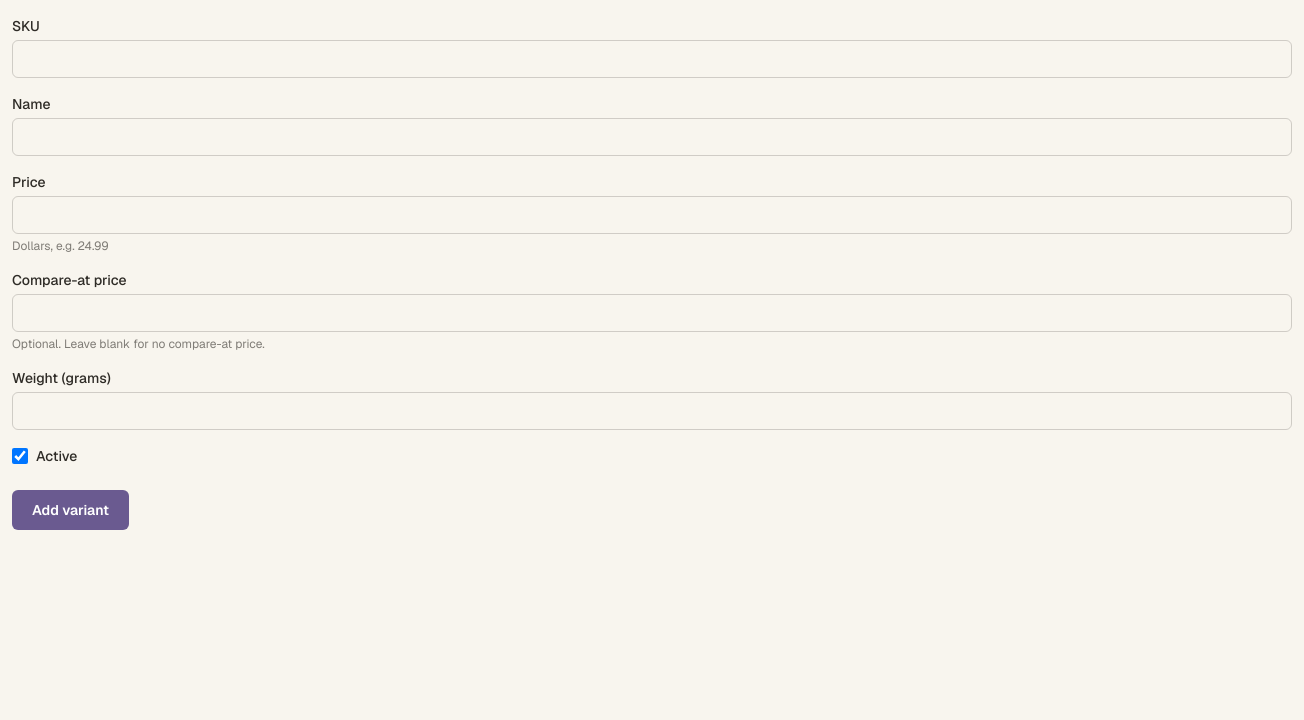
Test: VariantForm › renders a form-level error after a csrf mismatch
Type "FC-CANDLE-001" into the field labelled "SKU" at (652, 59), box [12,40,1292,78]
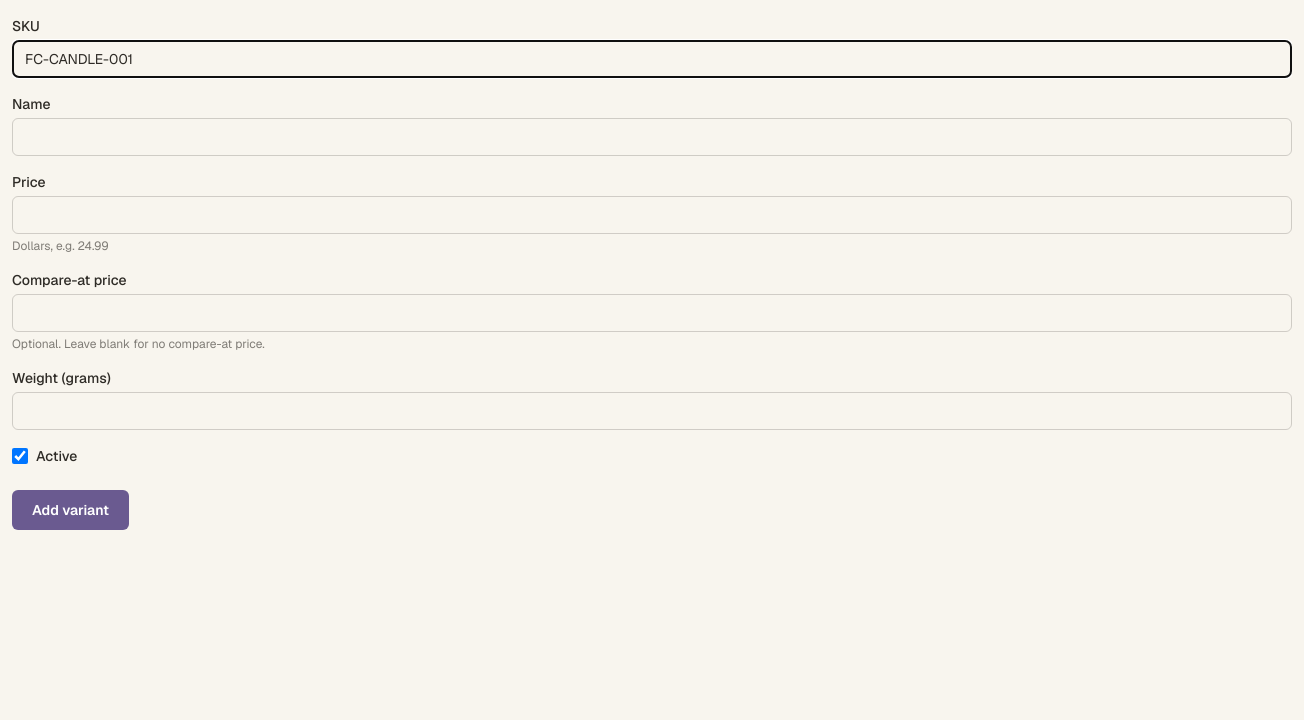
Type "Balsam Fir" into the field labelled "Name" at (652, 137), box [12,118,1292,156]
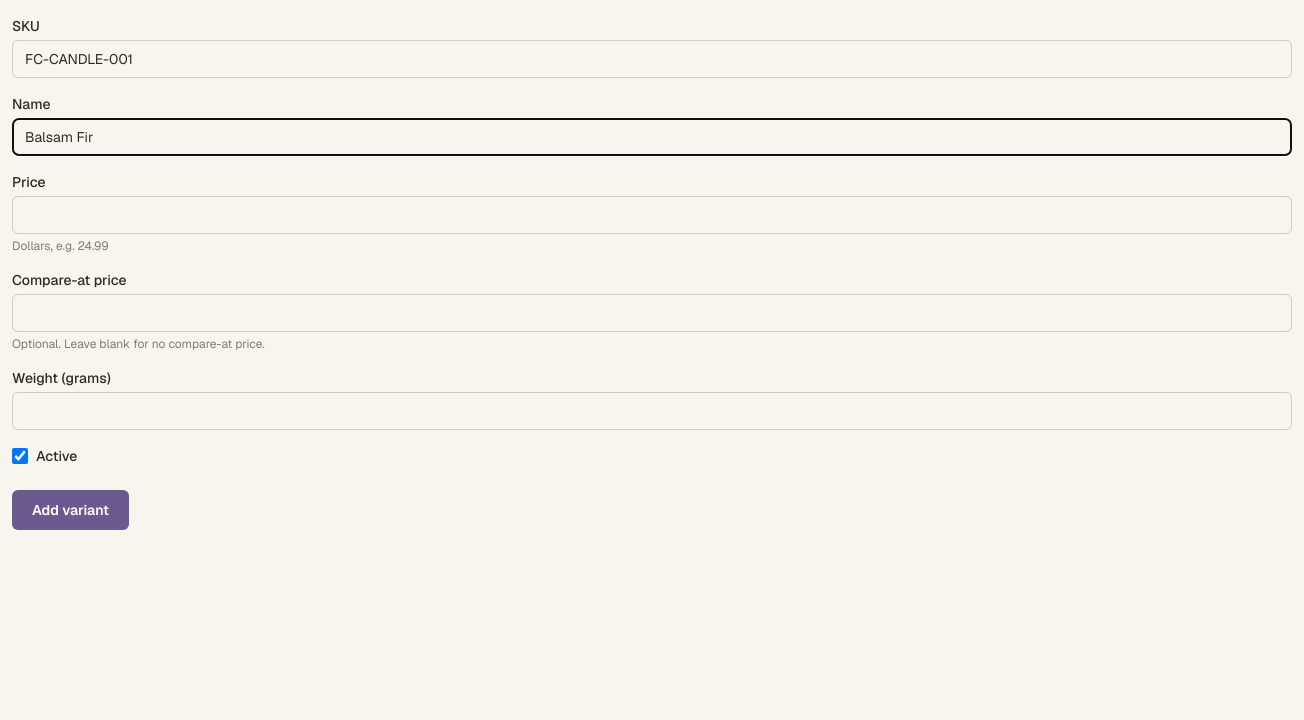
Type "24.99" into the field labelled "Price" at (652, 215), box [12,196,1292,234]
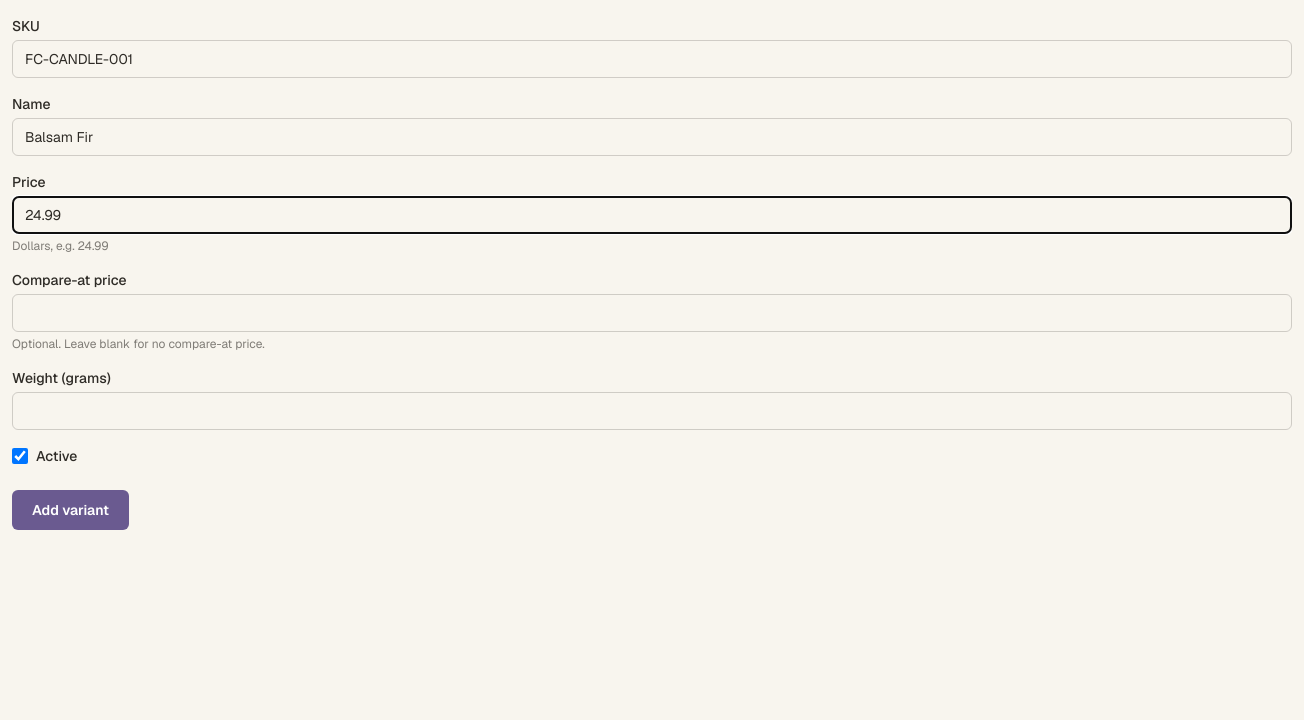
Type "340" into the field labelled "Weight (grams)" at (652, 411), box [12,392,1292,430]
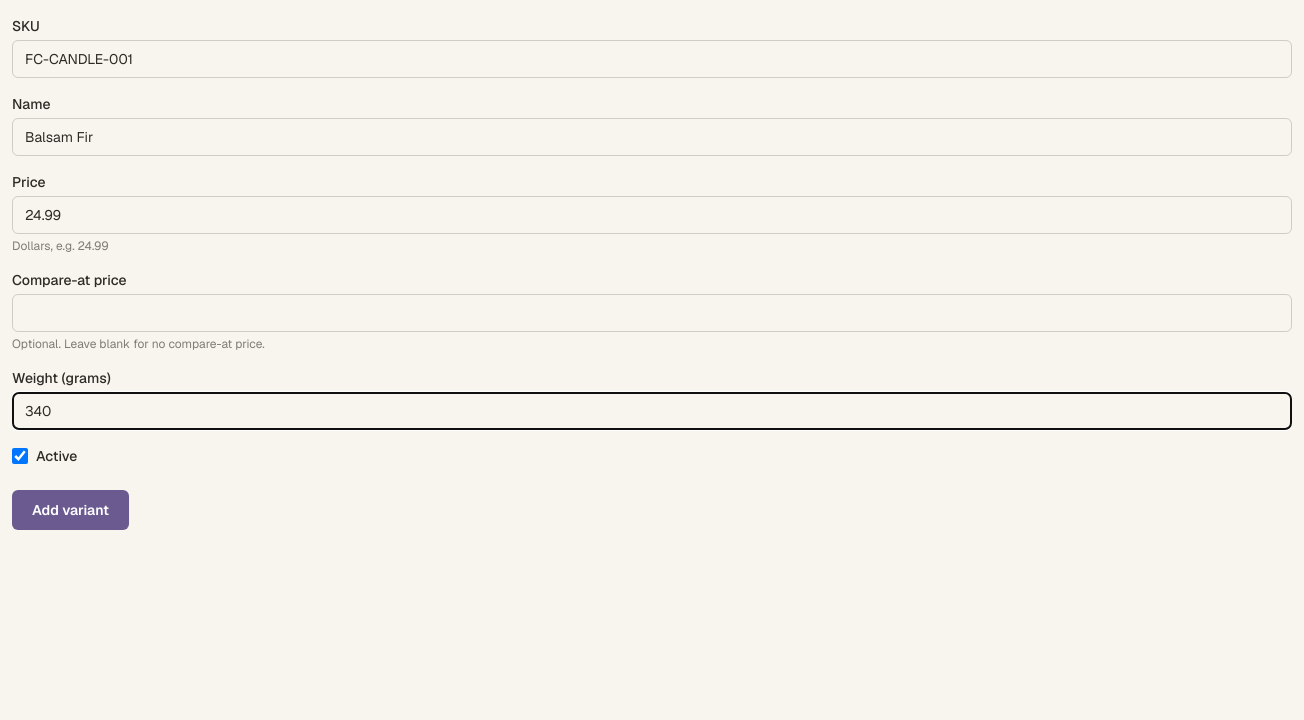
Click the button "Add variant" at (70, 510), box [12,490,129,530]
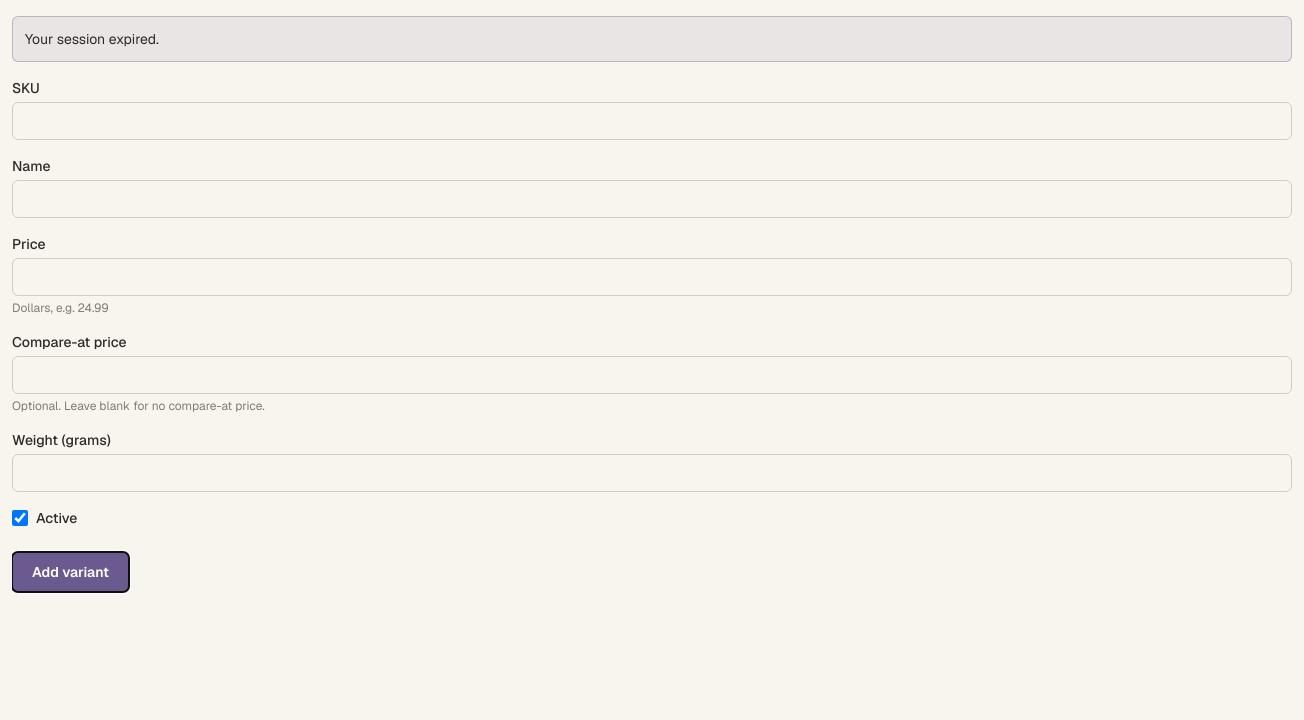
Expected: the message reads "Your session expired.", [25,30,159,48]
